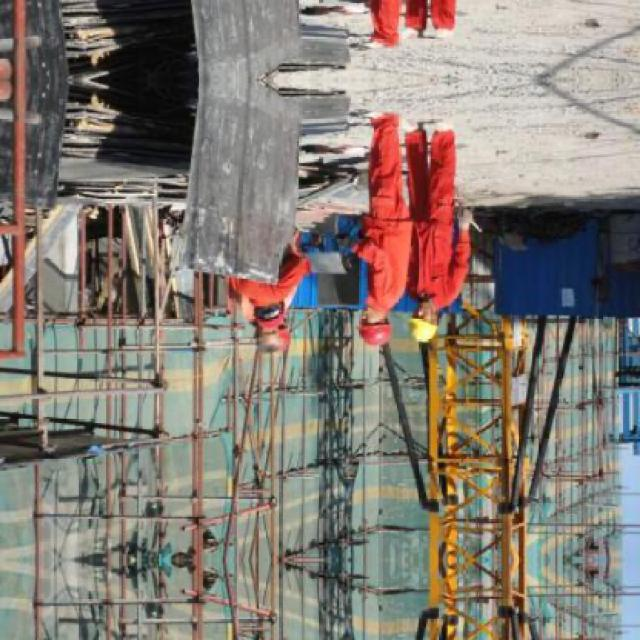con casco: (225, 303, 312, 370), (349, 298, 401, 366), (414, 302, 470, 357)
